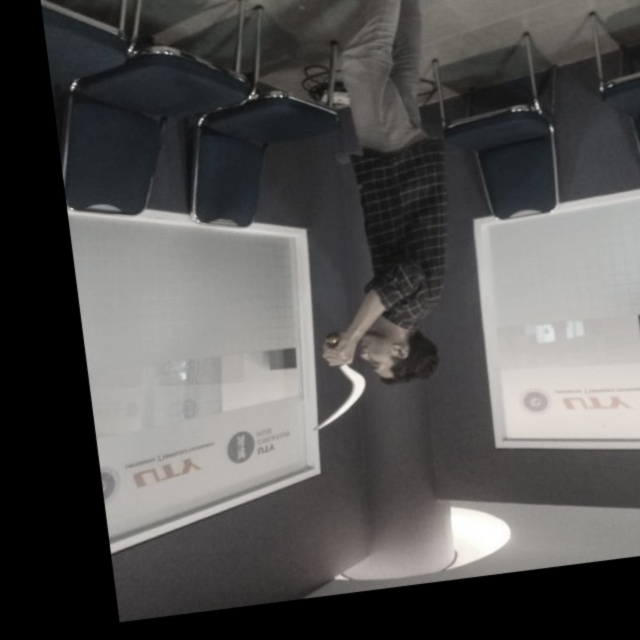Sharp-Object: (304, 337, 377, 434)
